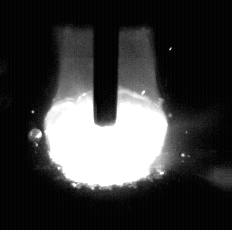arame: (94, 0, 118, 127)
poca: (44, 0, 167, 230)
